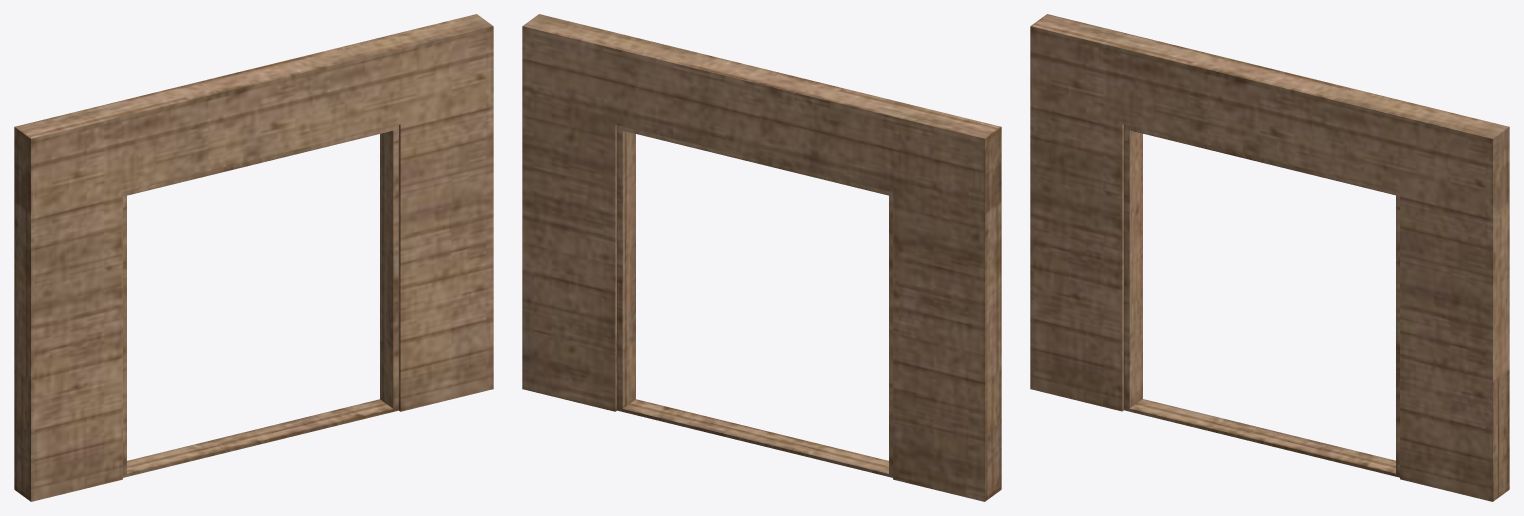
Rendered from wall_door.glb.
The picture shows the model from 3 angles, left to right: view 1: azimuth 30°, elevation 25°; view 2: azimuth 150°, elevation 25°; view 3: azimuth 330°, elevation 25°; orthographic projection.
Visible parts, largest first — view 1: wall_wood_full_bigdoorway; view 2: wall_wood_full_bigdoorway; view 3: wall_wood_full_bigdoorway.
Boxes of the visible parts, x1,y1,x2,y2 form: wall_wood_full_bigdoorway: [14, 14, 493, 501]; wall_wood_full_bigdoorway: [522, 14, 1001, 501]; wall_wood_full_bigdoorway: [1030, 14, 1509, 501].
Bounding box in the file's own units: 4 × 3 × 0.25.
Materials: 1 (1 with a texture image).
